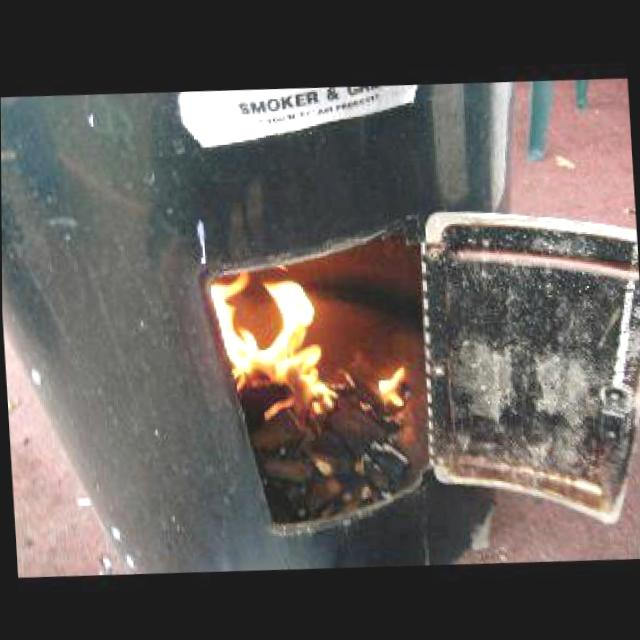Fire: (206, 247, 411, 427)
